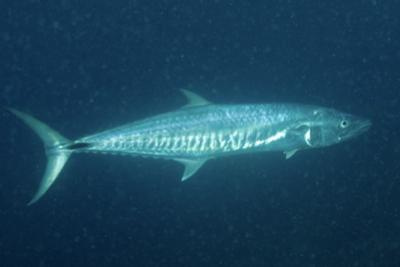Scombridae -Tunas-: (2, 83, 376, 206)
